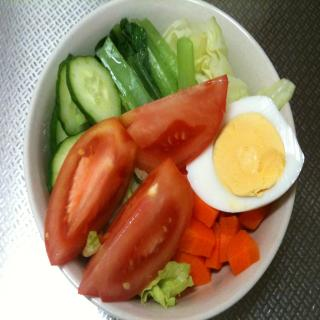tomato: (74, 157, 196, 305), (45, 118, 136, 266), (116, 74, 230, 176)
